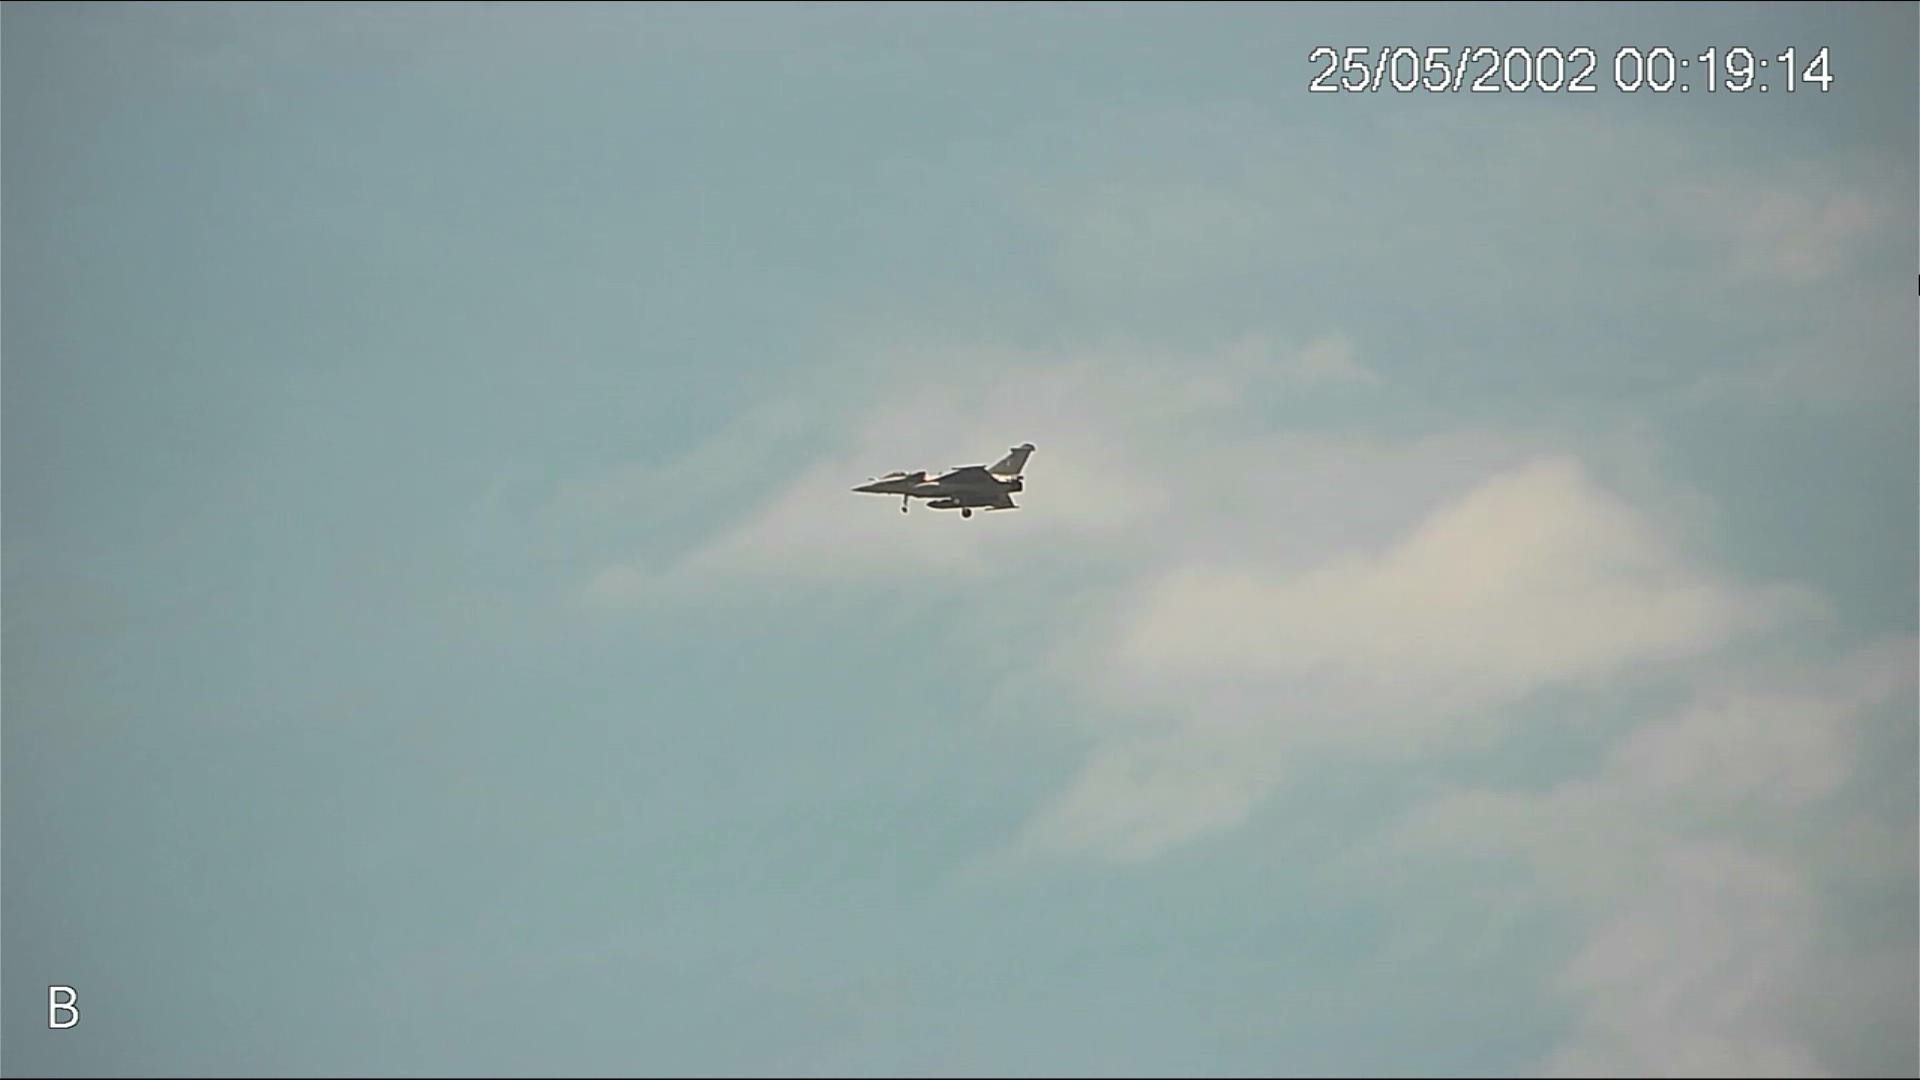SU_30: (856, 440, 1044, 527)
